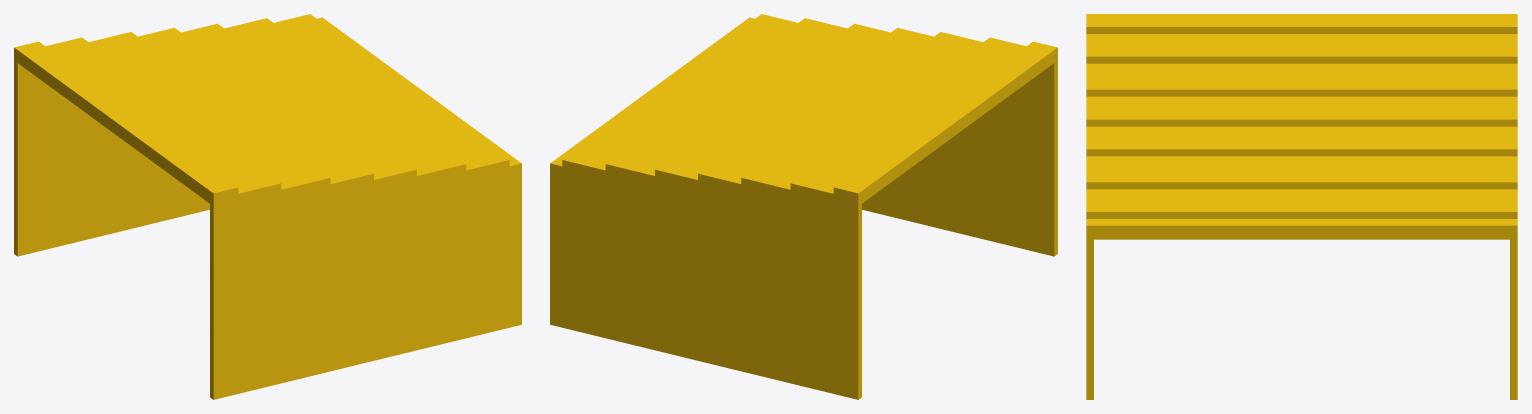
File: school_bus_bonnet.glb
3 views of the same model, side by side, from view 1: azimuth 30°, elevation 25°; view 2: azimuth 150°, elevation 25°; view 3: azimuth 270°, elevation 25° (orthographic). The views are drawn at different scales.
Parts seen in each view (by area): view 1: body:compound; view 2: body:compound; view 3: body:compound.
Boxes of the visible parts, x1,y1,x2,y2 form: body:compound: (14,14,521,399); body:compound: (550,14,1057,399); body:compound: (1086,14,1517,399).
Bounding box in the file's own units: 1.56 × 1 × 1.75.
